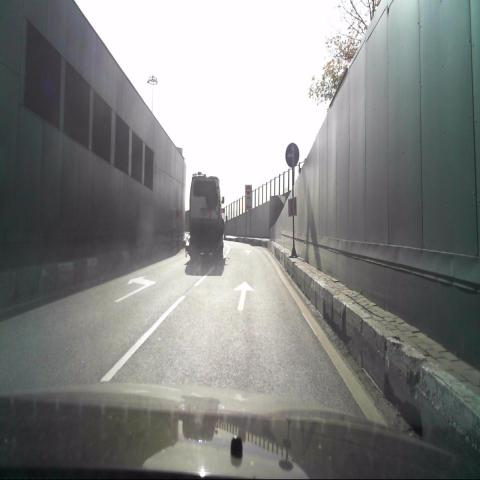4_1_5: (286, 143, 300, 168)
